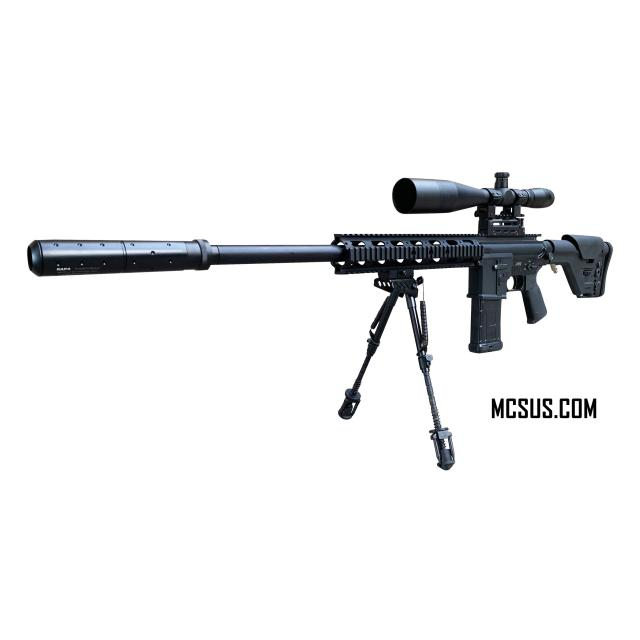Rifle: (26, 172, 615, 356)
